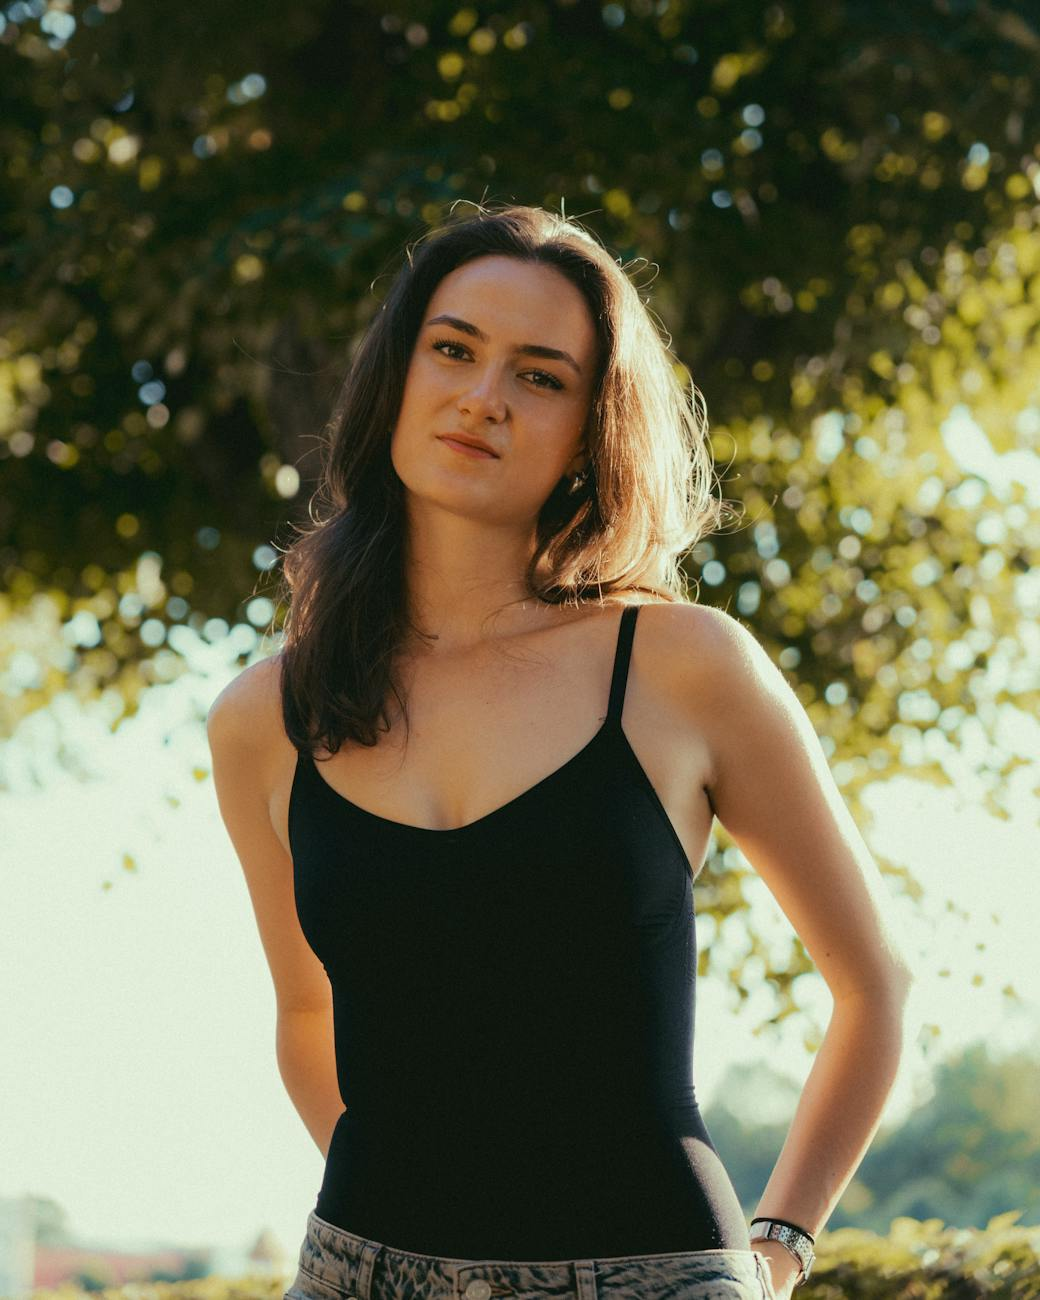sleeveless_top: (255, 573, 749, 1267)
